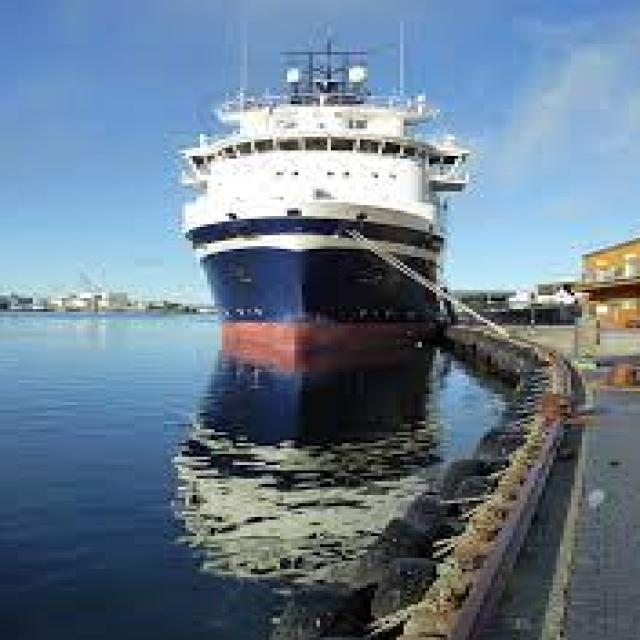passenger ship: (160, 32, 484, 318)
